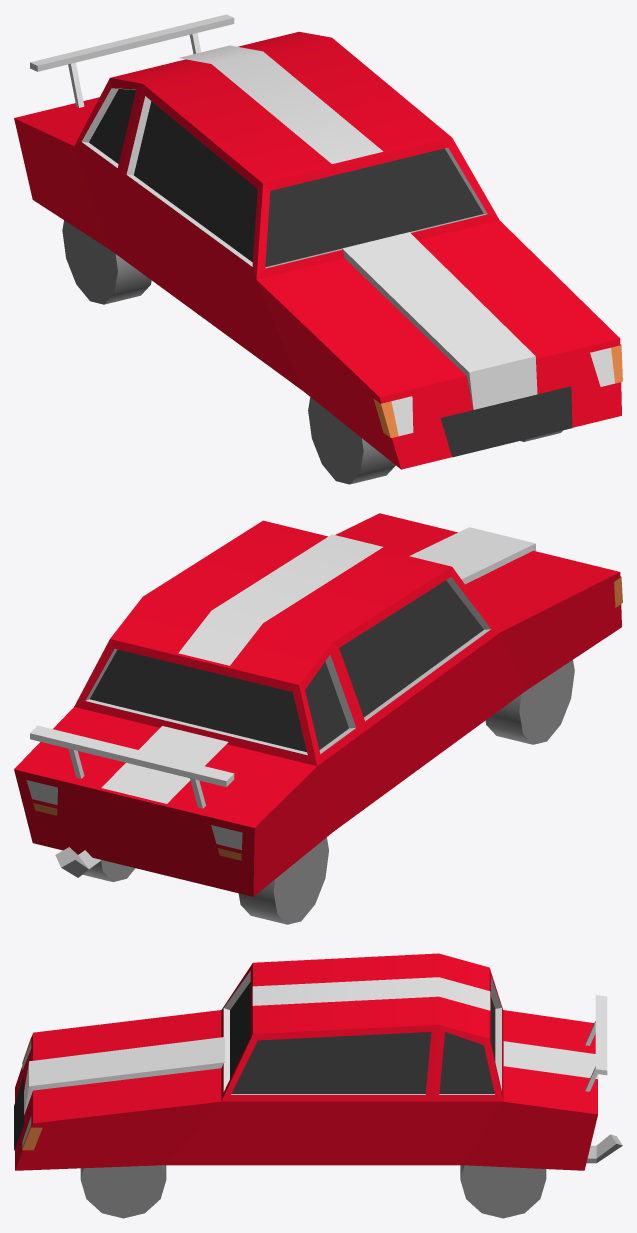
File: sportscar_20.fbx
3 views of the same model, one above another, from view 1: azimuth 30°, elevation 25°; view 2: azimuth 150°, elevation 25°; view 3: azimuth 270°, elevation 25° (orthographic). The views are drawn at different scales.
Visible parts, largest first — view 1: sportscar_20; view 2: sportscar_20; view 3: sportscar_20.
Boxes of the visible parts, bbox=[...] form: sportscar_20: bbox=[14, 14, 622, 484]; sportscar_20: bbox=[14, 513, 622, 924]; sportscar_20: bbox=[14, 953, 622, 1218].
Size of the model in its own units: 1.6 by 1.56 by 4.49.
